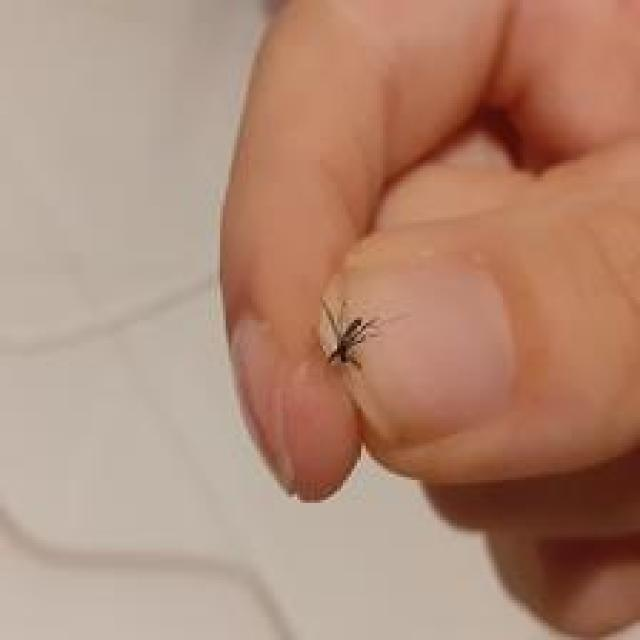Aedes albopictus: (317, 296, 380, 373)
